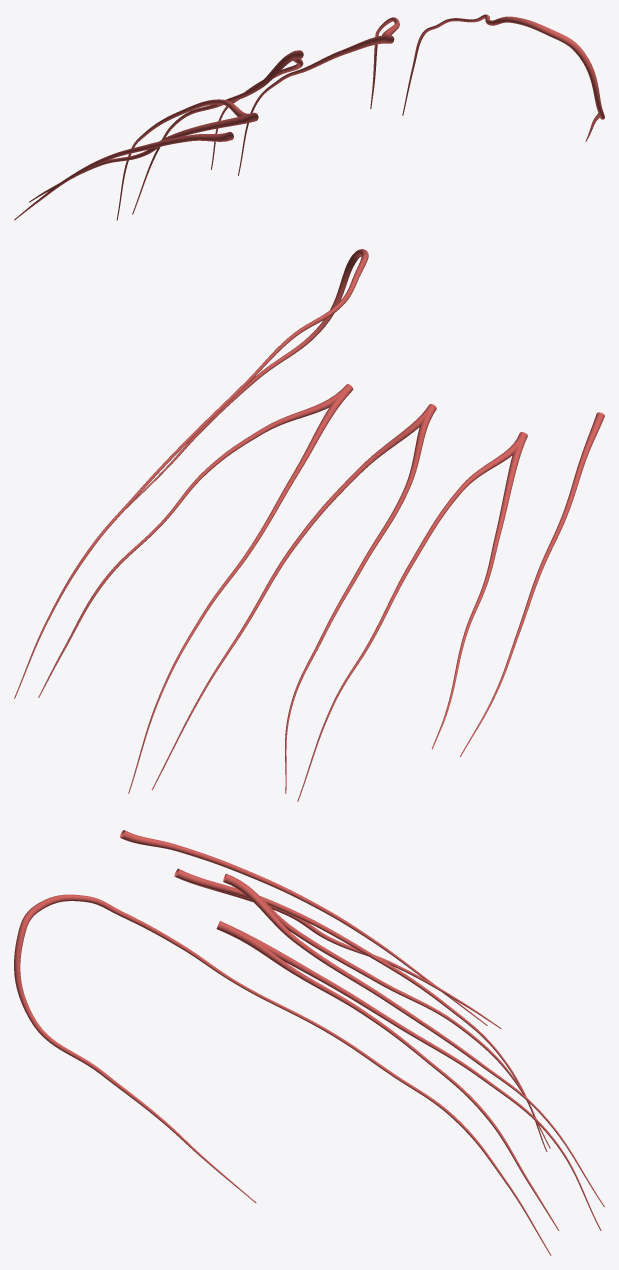
The picture shows the model from 3 angles, top to bottom: view 1: azimuth 30°, elevation 25°; view 2: azimuth 150°, elevation 25°; view 3: azimuth 270°, elevation 25°; orthographic projection. The views are drawn at different scales.
Visible parts, largest first — view 1: 左侧指背动脉; view 2: 左侧指背动脉; view 3: 左侧指背动脉.
Boxes of the visible parts, x1=… form: 左侧指背动脉: x1=14, y1=14, x2=604, y2=220; 左侧指背动脉: x1=14, y1=249, x2=604, y2=801; 左侧指背动脉: x1=14, y1=830, x2=604, y2=1255.
Bounding box in the file's own units: 0.1516 × 0.1066 × 0.1636.
